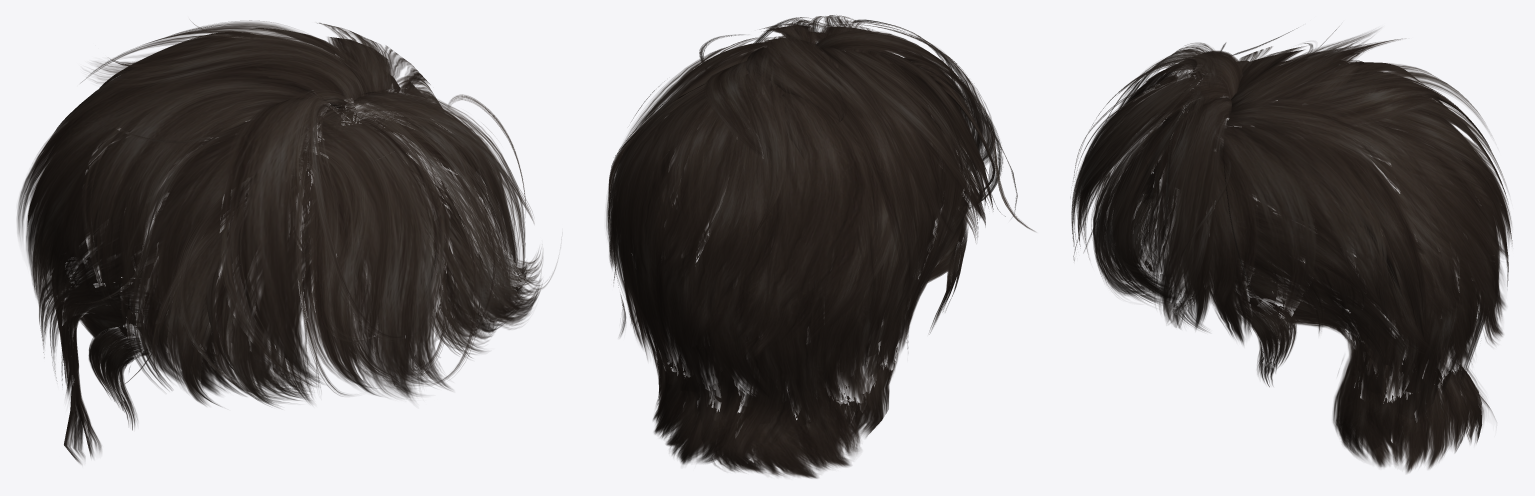
File: diamond_wavy_02_bagus.glb
3 renders of one model, left to right at view 1: azimuth 30°, elevation 25°; view 2: azimuth 150°, elevation 25°; view 3: azimuth 270°, elevation 25°, orthographic. The views are drawn at different scales.
Visible parts, largest first — view 1: s4studio_mesh_1.002; view 2: s4studio_mesh_1.002; view 3: s4studio_mesh_1.002.
Boxes of the visible parts, bbox=[...] form: s4studio_mesh_1.002: bbox=[17, 20, 556, 464]; s4studio_mesh_1.002: bbox=[606, 15, 1035, 478]; s4studio_mesh_1.002: bbox=[1071, 28, 1512, 472].
Bounding box in the file's own units: 0.2417 × 0.2514 × 0.2602.
1 material, 1 textured.
